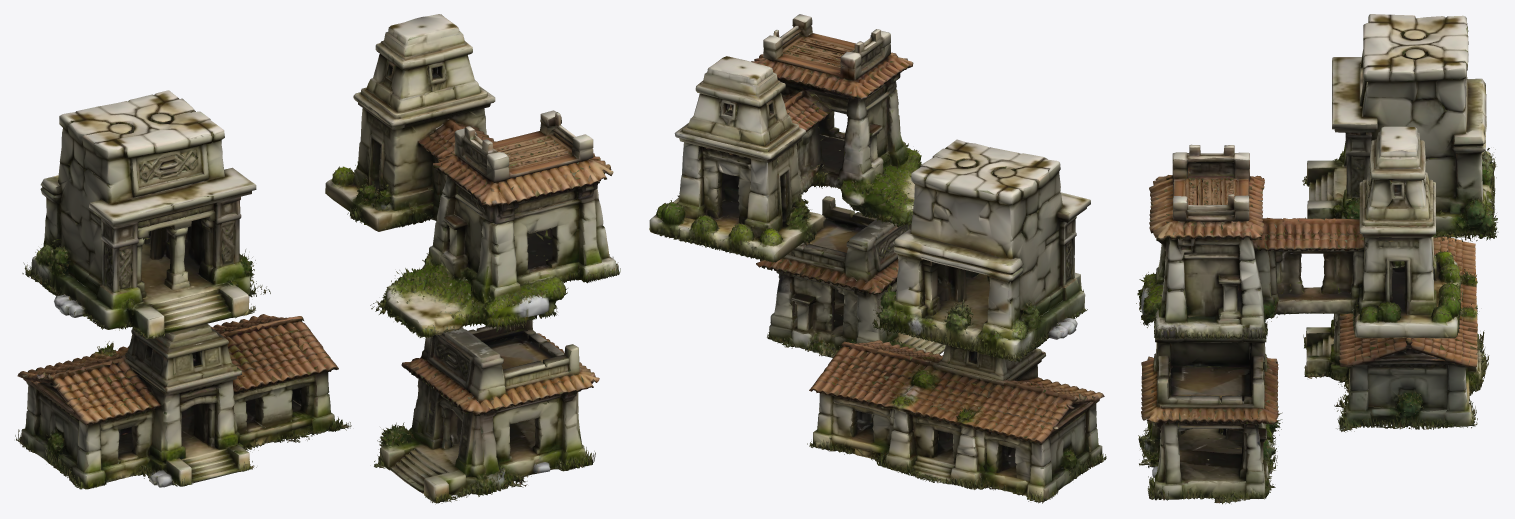
Rendered from Ancient_Stone_Structu.glb.
3 renders of one model, left to right at view 1: azimuth 30°, elevation 25°; view 2: azimuth 150°, elevation 25°; view 3: azimuth 270°, elevation 25°, orthographic. The views are drawn at different scales.
Parts seen in each view (by area): view 1: Ancient_Stone_Structu; view 2: Ancient_Stone_Structu; view 3: Ancient_Stone_Structu.
Part boxes in pixels (x1,y1,x2,y2): Ancient_Stone_Structu: (15, 14, 620, 504); Ancient_Stone_Structu: (649, 14, 1106, 503); Ancient_Stone_Structu: (1136, 14, 1498, 504).
Bounding box in the file's own units: 1.9 × 1.44 × 1.39.
Materials: 1 (1 with a texture image).
